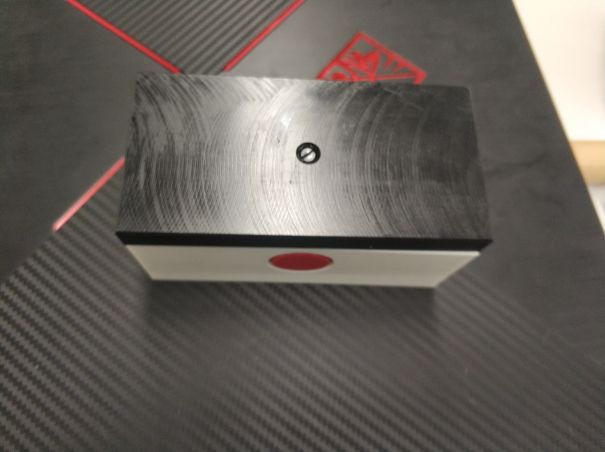black+white+red: (113, 68, 498, 305)
